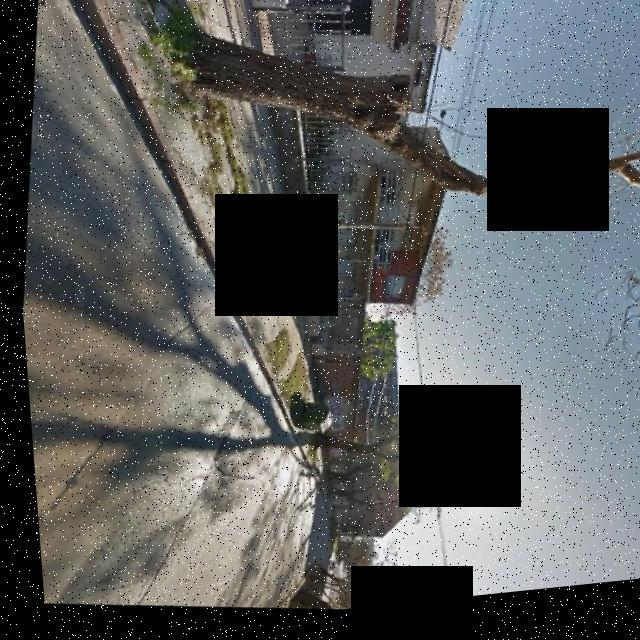bin: (279, 391, 334, 451)
